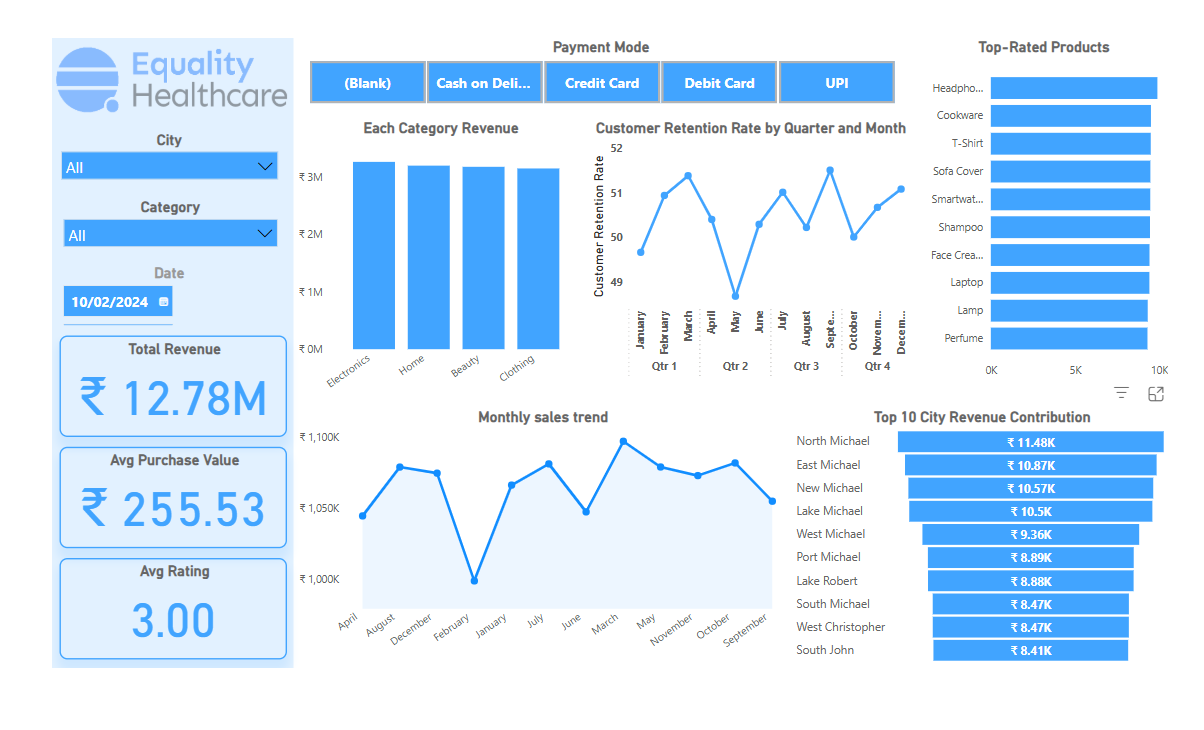

What the dashboard file says about the page in this screenshot:
{"tool":"powerbi","page":{"name":"Page 1","canvas":[1280,720],"ordinal":0},"visuals":[{"type":"shape","box":[0,0,276.2,720.6],"z":0},{"type":"card","title":"Total Revenue","fields":{"Values":["data.Total Revenue"]},"box":[7.9,339.7,260.3,115.9],"z":1000},{"type":"card","title":"Avg Purchase Value","fields":{"Values":["Avg(data.Purchase_Amount)"]},"box":[7.9,466.7,260.3,115.9],"z":2000},{"type":"slicer","title":"City","fields":{"Values":["data.City"]},"box":[0,106.3,268.3,76.2],"z":3000},{"type":"slicer","title":"Category","fields":{"Values":["data.Category"]},"box":[3.2,182.5,265.1,76.2],"z":4000},{"type":"slicer","title":"Date","fields":{"Values":["data.Purchase_Date"]},"box":[0,258.7,268.3,69.8],"z":5000},{"type":"card","title":"Avg Rating","fields":{"Values":["Avg(data.Rating)"]},"box":[7.9,593.7,260.3,115.9],"z":6000},{"type":"image","box":[0,0,276.2,93.7],"z":7000},{"type":"columnChart","title":"Each Category Revenue","fields":{"Y":["Sum(data.Purchase_Amount)"],"Category":["data.Category"]},"box":[276.7,93.3,335,330],"z":8000},{"type":"lineChart","title":"Monthly sales trend","fields":{"Y":["Sum(data.Purchase_Amount)"],"Category":["data.Month"]},"box":[276.7,423.3,568.3,296.7],"z":9000},{"type":"funnel","title":"Top 10 City Revenue Contribution","fields":{"Category":["data.City"],"Y":["Sum(data.Purchase_Amount)"]},"box":[845,423.3,435,296.7],"z":10000},{"type":"slicer","title":"Payment Mode","fields":{"Values":["data.Payment_Method"]},"box":[268.3,0,718.3,81.7],"z":11000},{"type":"lineChart","fields":{"Y":["data.Customer Retention Rate"],"Category":["data.Purchase_Date.Variation.Date Hierarchy.Quarter","data.Purchase_Date.Variation.Date Hierarchy.Month"]},"box":[611.7,93.3,375,305],"z":12000},{"type":"clusteredBarChart","title":"Top-Rated Products","fields":{"Category":["data.Product_Name"],"Y":["Sum(data.Rating)"]},"box":[986.7,0,293.3,398.3],"z":13000}]}

Visuals, with their boxes on the page's 1280x720 design canvas (x1, y1, x2, y2). These are canvas units, not pixel positions in the 1204x730 screenshot, which may show the page scaled, cropped or inside an application window:
shape: box(0, 0, 276, 721)
"Total Revenue" card: box(8, 340, 268, 456)
"Avg Purchase Value" card: box(8, 467, 268, 583)
"City" slicer: box(0, 106, 268, 182)
"Category" slicer: box(3, 182, 268, 259)
"Date" slicer: box(0, 259, 268, 328)
"Avg Rating" card: box(8, 594, 268, 710)
image: box(0, 0, 276, 94)
"Each Category Revenue" columnChart: box(277, 93, 612, 423)
"Monthly sales trend" lineChart: box(277, 423, 845, 720)
"Top 10 City Revenue Contribution" funnel: box(845, 423, 1280, 720)
"Payment Mode" slicer: box(268, 0, 987, 82)
lineChart - data.Customer Retention Rate x data.Purchase_Date.Variation.Date Hierarchy.Quarter: box(612, 93, 987, 398)
"Top-Rated Products" clusteredBarChart: box(987, 0, 1280, 398)
